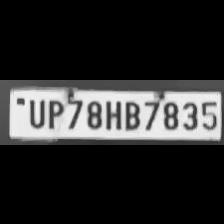3: (180, 98, 198, 130)
5: (199, 97, 219, 129)
7: (62, 96, 82, 130), (141, 97, 159, 130)
8: (83, 97, 103, 129), (160, 98, 180, 130)
B: (120, 97, 140, 129)
H: (104, 98, 120, 130)
P: (44, 96, 64, 128)
U: (25, 96, 45, 128)
